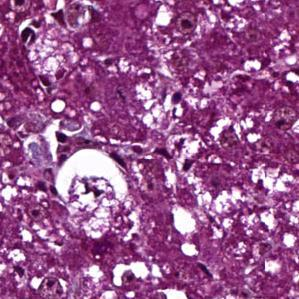ballooning: (54, 146, 136, 244)
